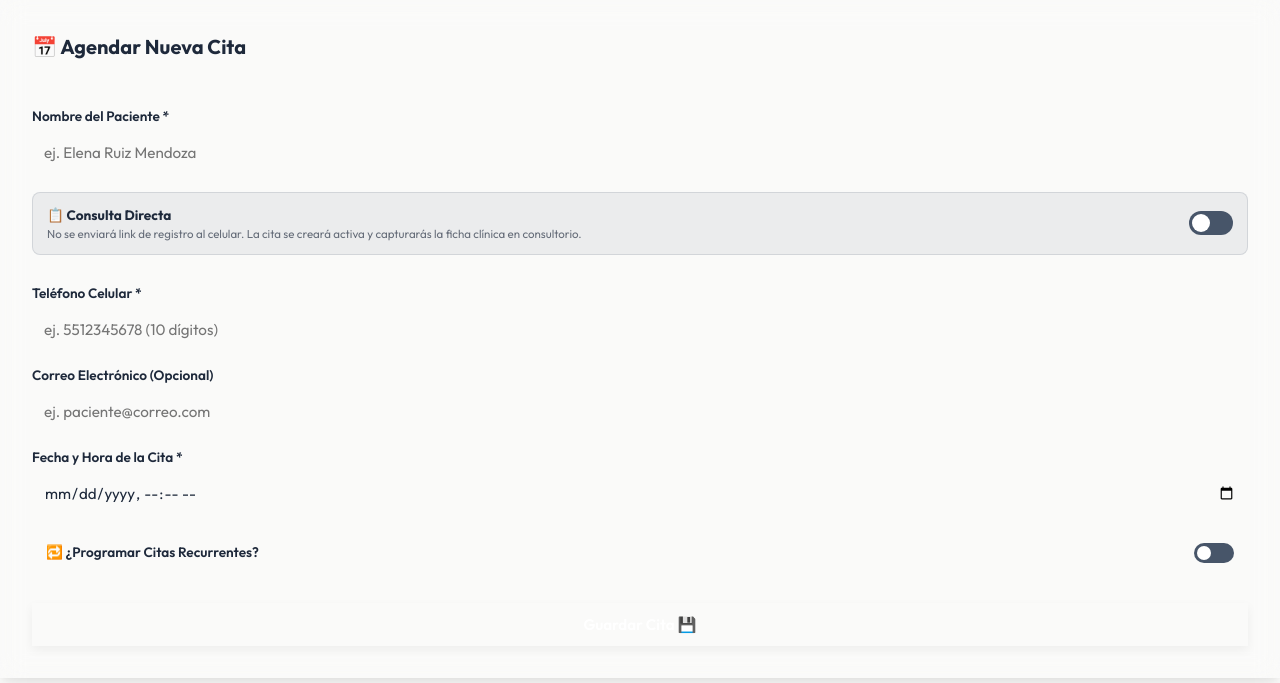
NewAppointmentForm Component › validates fields and shows error messages if fields are empty
Step 1. Click the button "Guardar Cita 💾" → (640, 624), box [32,603,1248,646]
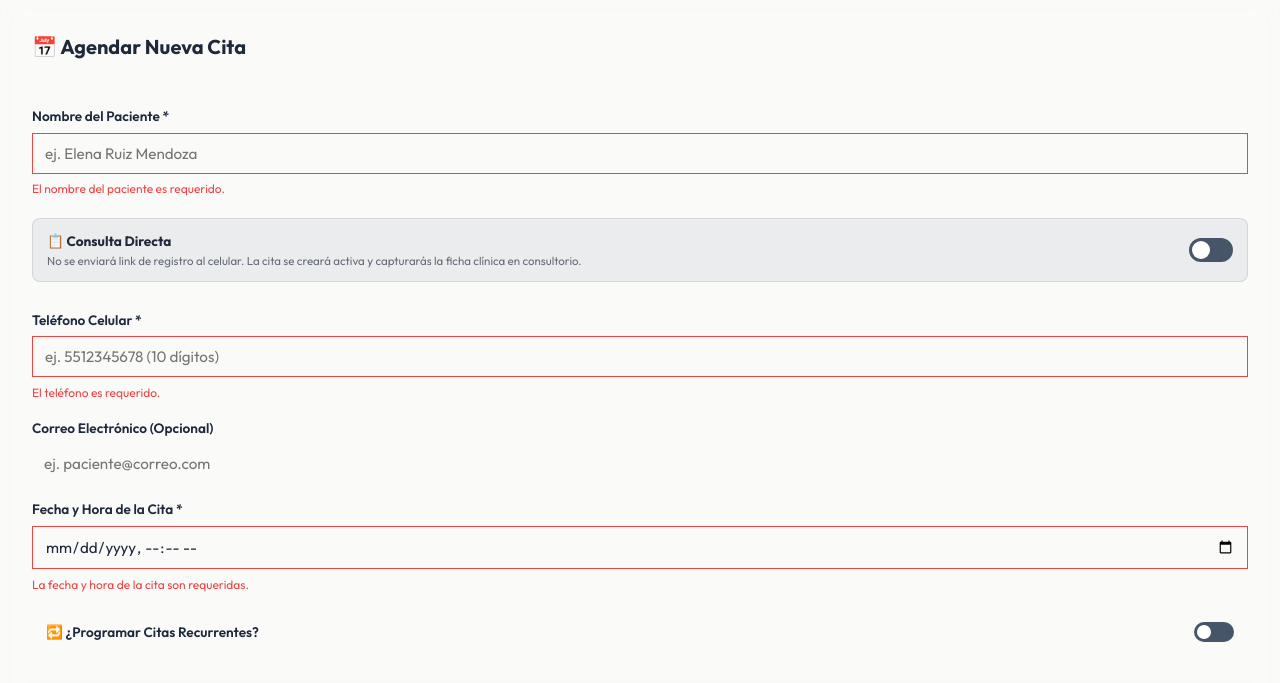
Now the text "El nombre del paciente es requerido." is shown, box [32,181,225,196]
Now the text "El teléfono es requerido." is shown, box [32,385,160,400]
Now the text "La fecha y hora de la cita son requeridas." is shown, box [32,577,249,592]
